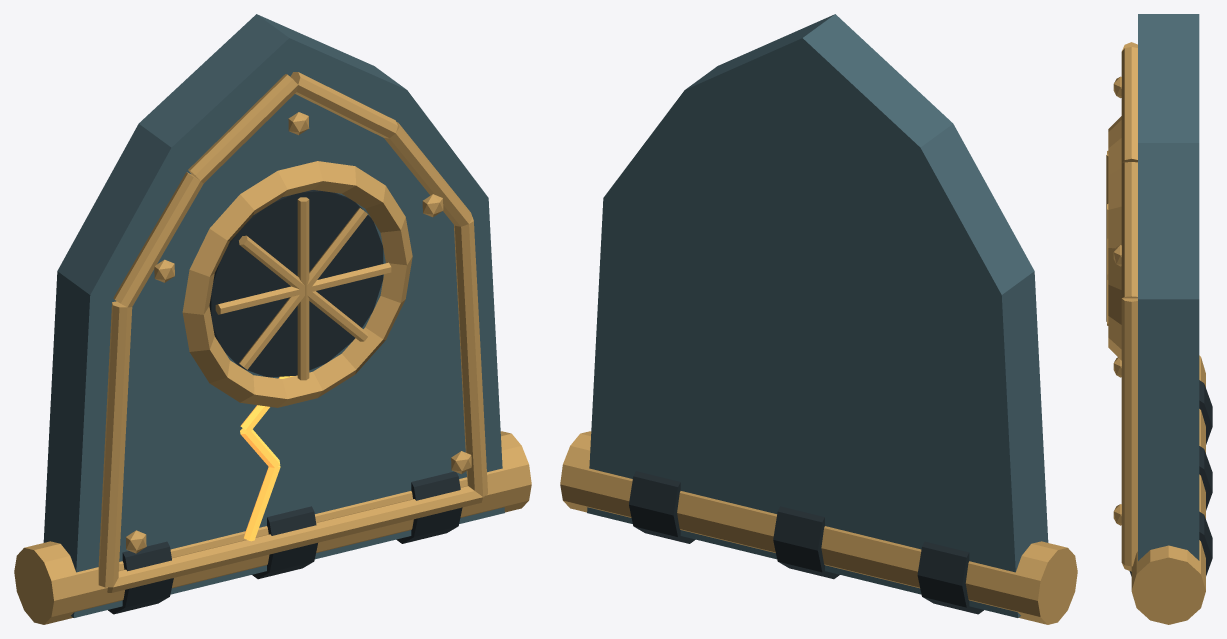
File: guardian-bell-armor.glb
The picture shows the model from 3 angles, left to right: view 1: azimuth 30°, elevation 25°; view 2: azimuth 150°, elevation 25°; view 3: azimuth 270°, elevation 25°; orthographic projection. The views are drawn at different scales.
Visible parts, largest first — view 1: Bellwarden hinged lancet shield, guardian-bell-armor / Brass | guardian machined gold, guardian-bell-armor / Structure | guardian fractured graphit, guardian-bell-armor / Lamp | guardian vented amber; view 2: Bellwarden hinged lancet shield, guardian-bell-armor / Brass | guardian machined gold, guardian-bell-armor / Structure | guardian fractured graphit; view 3: Bellwarden hinged lancet shield, guardian-bell-armor / Brass | guardian machined gold, guardian-bell-armor / Structure | guardian fractured graphit.
Part boxes in pixels (x1=…): Bellwarden hinged lancet shield: x1=43, y1=14, x2=504, y2=617; guardian-bell-armor / Brass | guardian machined gold: x1=14, y1=72, x2=531, y2=624; guardian-bell-armor / Structure | guardian fractured graphit: x1=108, y1=190, x2=462, y2=614; guardian-bell-armor / Lamp | guardian vented amber: x1=240, y1=376, x2=293, y2=541; Bellwarden hinged lancet shield: x1=587, y1=14, x2=1048, y2=617; guardian-bell-armor / Brass | guardian machined gold: x1=560, y1=431, x2=1077, y2=624; guardian-bell-armor / Structure | guardian fractured graphit: x1=629, y1=471, x2=983, y2=614; Bellwarden hinged lancet shield: x1=1138, y1=14, x2=1199, y2=560; guardian-bell-armor / Brass | guardian machined gold: x1=1106, y1=42, x2=1205, y2=624; guardian-bell-armor / Structure | guardian fractured graphit: x1=1129, y1=380, x2=1212, y2=576.
Size of the model in its own units: 2.35 by 2.55 by 0.485.
